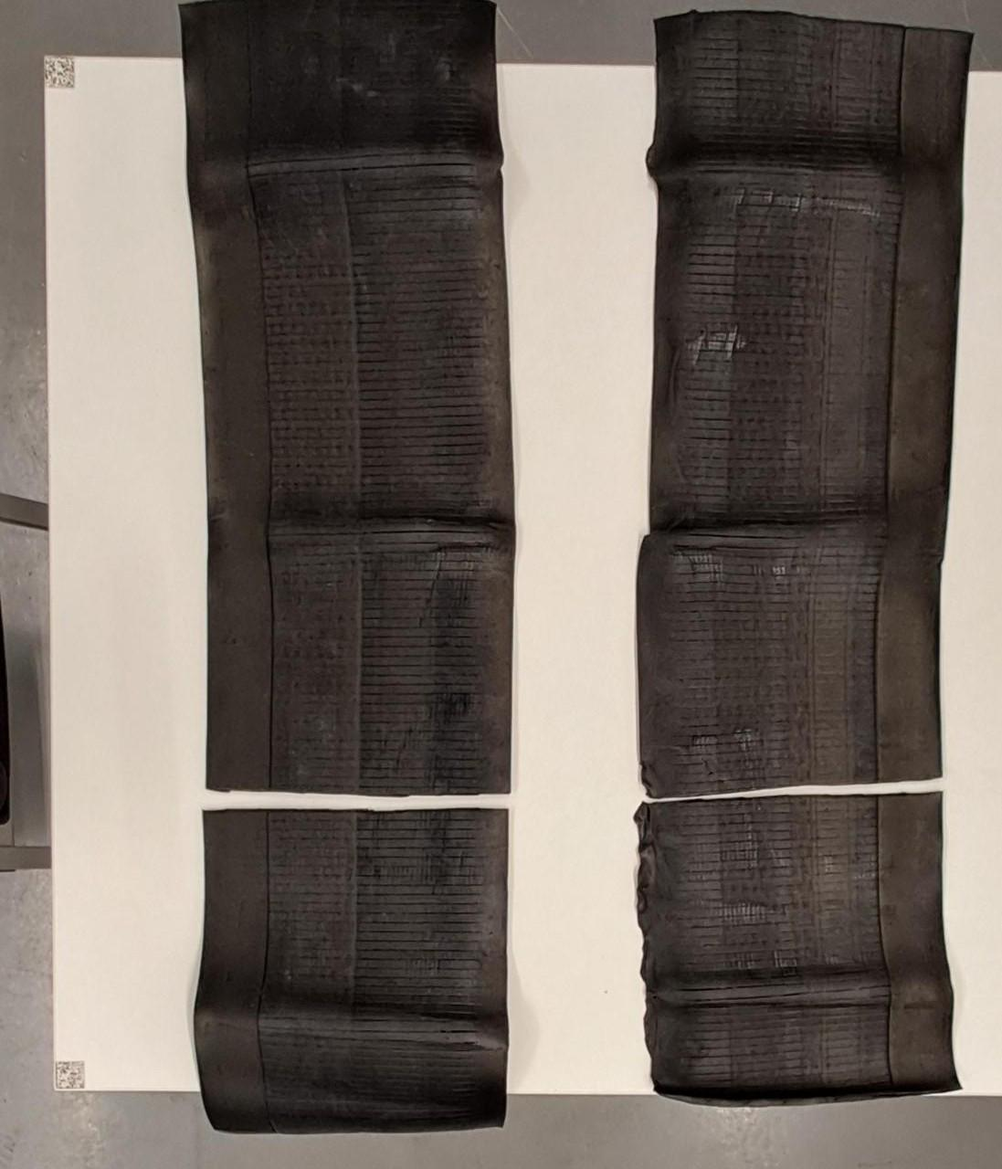cut_edge: (643, 777, 941, 803), (202, 788, 509, 810)
qr_code: (45, 57, 73, 87), (57, 1061, 84, 1088)
